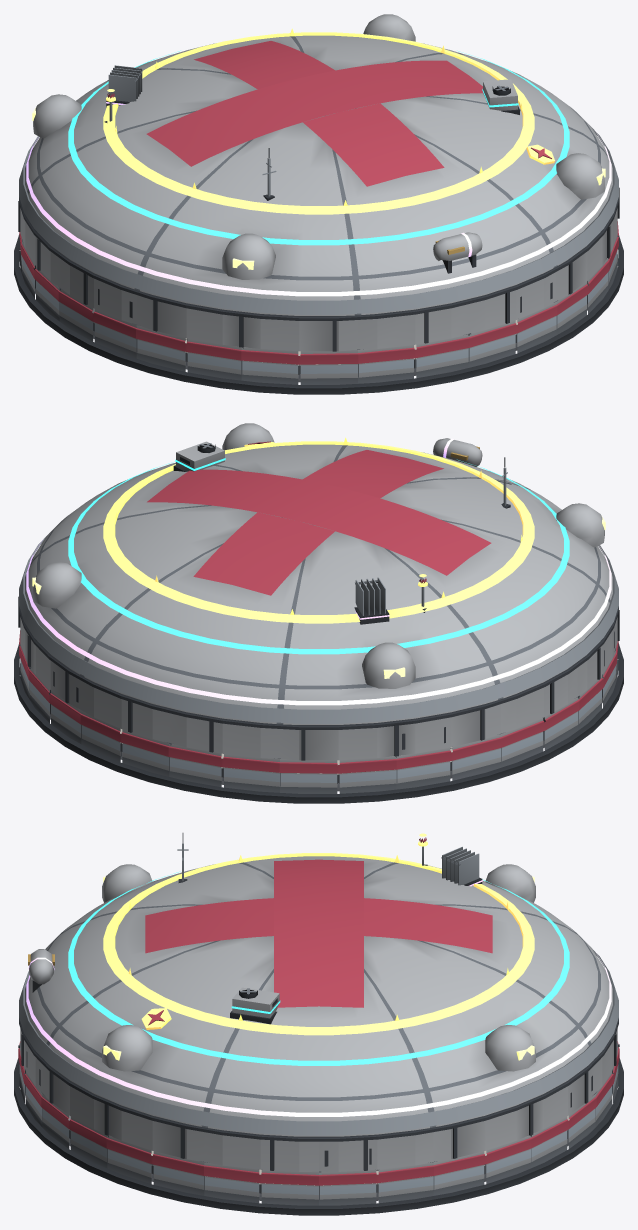
The model's file is medical_xl_far.glb.
3 renders of one model, top to bottom at view 1: azimuth 30°, elevation 25°; view 2: azimuth 150°, elevation 25°; view 3: azimuth 270°, elevation 25°, orthographic.
Parts seen in each view (by area): view 1: Roof, Base, L2, L5, L4, L3; view 2: Roof, Base, L2, L5, L4, L3; view 3: Roof, Base, L2, L5, L4, L3.
Boxes of the visible parts, x1,y1,x2,y2 form: Roof: (18, 14, 619, 351); Base: (14, 221, 623, 394); L2: (19, 125, 618, 314); L5: (103, 28, 554, 214); L4: (26, 65, 611, 296); L3: (68, 50, 569, 245); Roof: (18, 423, 619, 760); Base: (14, 630, 623, 803); L2: (19, 457, 618, 723); L5: (103, 437, 534, 623); L4: (26, 438, 611, 705); L3: (68, 441, 569, 654); Roof: (19, 856, 618, 1171); Base: (14, 1041, 623, 1215); L2: (19, 833, 618, 1135); L5: (103, 833, 534, 1035); L4: (26, 846, 611, 1116); L3: (68, 871, 569, 1065).
Bounding box in the file's own units: 21.35 × 7.59 × 21.35.
